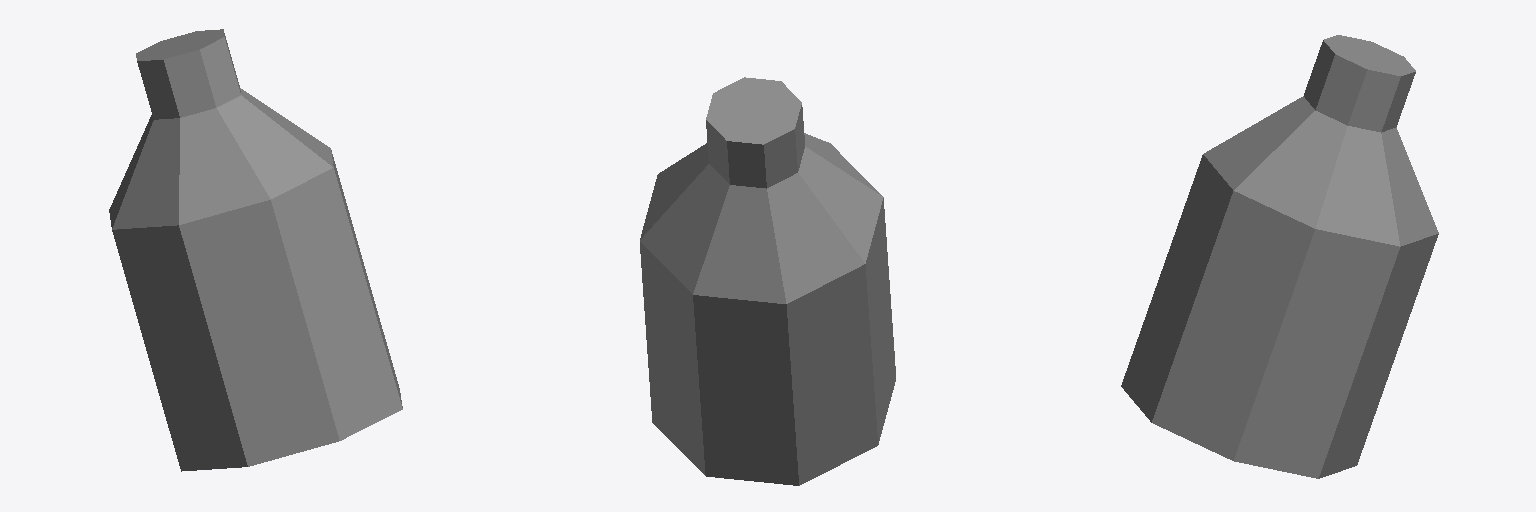
The model's file is superburn.obj.
3 views of the same model, side by side, from view 1: azimuth 30°, elevation 25°; view 2: azimuth 150°, elevation 25°; view 3: azimuth 270°, elevation 25° (orthographic).
Parts seen in each view (by area): view 1: Cylinder01; view 2: Cylinder01; view 3: Cylinder01.
Boxes of the visible parts, x1,y1,x2,y2 form: Cylinder01: [109, 29, 402, 471]; Cylinder01: [640, 77, 895, 485]; Cylinder01: [1121, 35, 1438, 478].
Bounding box in the file's own units: 35.8 × 56.58 × 40.82.